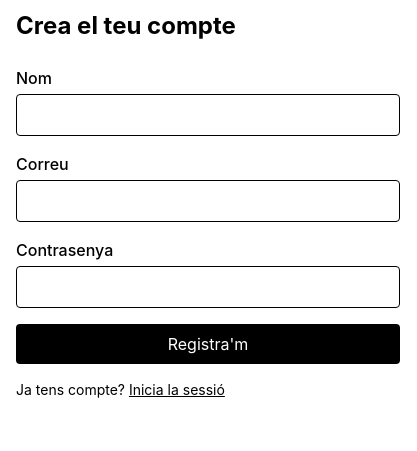
Test: RegisterPage › shows a clear error when the email already exists
Step 1. Type "Oriol" into the field labelled "Nom" → (208, 115), box x1=16 y1=94 x2=400 y2=136
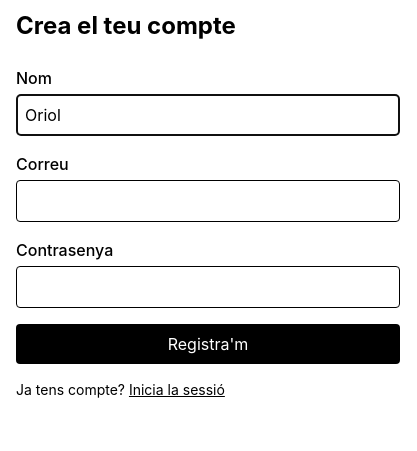
Step 2. Type "oriol@test.com" into the field labelled "Correu" → (208, 201), box x1=16 y1=180 x2=400 y2=222
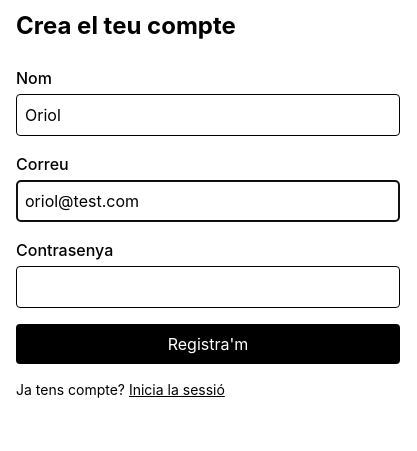
Step 3. Type "12345678" into the password field labelled "Contrasenya" → (208, 287), box x1=16 y1=266 x2=400 y2=308
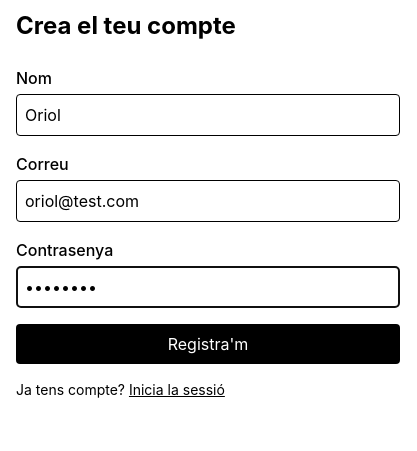
Step 4. Click the button "Registra'm" → (208, 344), box x1=16 y1=324 x2=400 y2=364
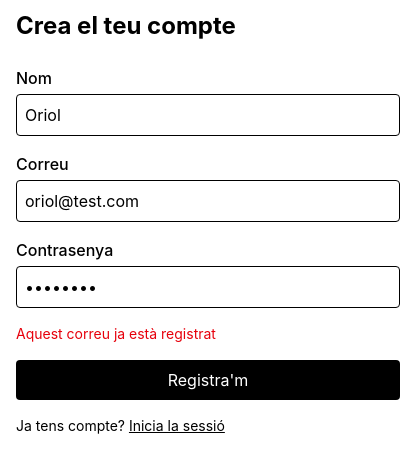
Now the message reads "Aquest correu ja està registrat", box x1=16 y1=325 x2=216 y2=342
